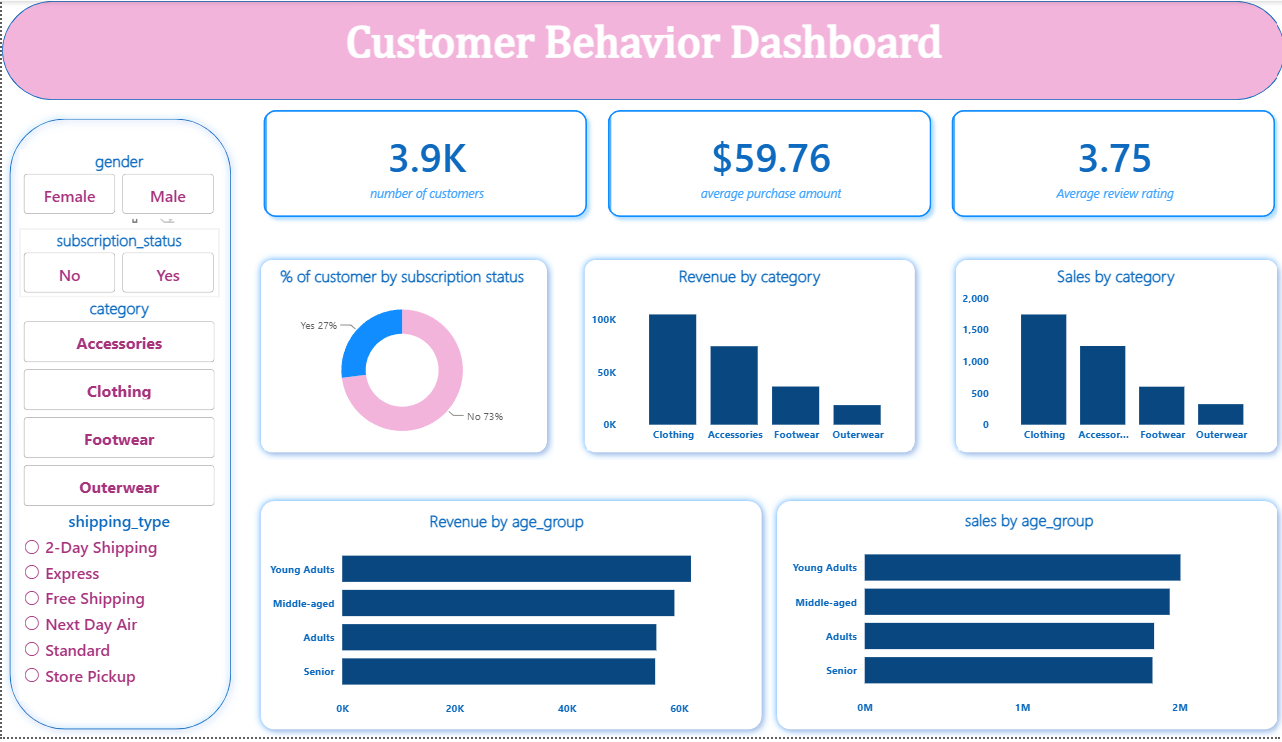

What the dashboard file says about the page in this screenshot:
{"tool":"powerbi","page":{"name":"Page 1","canvas":[1500,860],"ordinal":0},"visuals":[{"type":"cardVisual","fields":{"Data":["public customer.number of customers","public customer.average purchase amount","public customer.Average review rating"]},"box":[294.3,115.8,1206.1,149.6],"z":0},{"type":"shape","box":[0,0,1500.3,115.8],"z":1000},{"type":"textbox","box":[0,14.5,1500.3,101.3],"z":2000},{"type":"shape","box":[294.3,294.3,352.2,242.8],"z":3000},{"type":"donutChart","title":"% of customer by subscription status","fields":{"Category":["public customer.subscription_status"],"Y":["CountNonNull(public customer.customer_id)"]},"box":[307.1,308.7,321.6,217.1],"z":4000},{"type":"shape","box":[672.2,294.3,403.6,242.8],"z":5000},{"type":"shape","box":[1106.4,294.3,394,242.8],"z":6000},{"type":"clusteredColumnChart","title":"Revenue by category","fields":{"Y":["Sum(public customer.purchase_amount)"],"Category":["public customer.category"]},"box":[683.4,308.7,379.5,217.1],"z":7000},{"type":"clusteredColumnChart","title":"Sales by category","fields":{"Y":["CountNonNull(public customer.customer_id)"],"Category":["public customer.category"]},"box":[1117.6,308.7,368.2,217.1],"z":7001},{"type":"shape","box":[0,128.6,276.6,731.7],"z":7002},{"type":"advancedSlicerVisual","fields":{"Values":["public customer.subscription_status"]},"box":[20.9,265.3,233.2,80.4],"z":7003},{"type":"advancedSlicerVisual","fields":{"Values":["public customer.gender"]},"box":[20.9,173.7,233.2,80.4],"z":7004},{"type":"advancedSlicerVisual","fields":{"Values":["public customer.category"]},"box":[20.9,345.7,233.2,249.3],"z":7005},{"type":"listSlicer","fields":{"Values":["public customer.shipping_type"]},"box":[20.9,595,233.2,223.5],"z":7006},{"type":"shape","box":[294.3,575.7,603,284.6],"z":7007},{"type":"clusteredBarChart","title":"Revenue by age_group","fields":{"Category":["public customer.age_group"],"Y":["Sum(public customer.purchase_amount)"]},"box":[307.1,595,566,250.9],"z":7008},{"type":"shape","box":[897.3,575.7,603,284.6],"z":7009},{"type":"clusteredBarChart","title":"sales by age_group","fields":{"Category":["public customer.age_group"],"Y":["Sum(public customer.customer_id)"]},"box":[916.6,593.4,566,250.9],"z":7010}]}

Visuals, with their boxes in screenshot pixels (x1, y1, x2, y2), scaled from the page's 1500x860 canvas onto the 1282x742 screenshot:
cardVisual - public customer.number of customers x public customer.average purchase amount: (252, 100, 1281, 229)
shape: (0, 0, 1281, 100)
textbox: (0, 13, 1281, 100)
shape: (252, 254, 553, 463)
"% of customer by subscription status" donutChart: (262, 266, 537, 454)
shape: (575, 254, 919, 463)
shape: (946, 254, 1281, 463)
"Revenue by category" clusteredColumnChart: (584, 266, 908, 454)
"Sales by category" clusteredColumnChart: (955, 266, 1270, 454)
shape: (0, 111, 236, 741)
advancedSlicerVisual - public customer.subscription_status: (18, 229, 217, 298)
advancedSlicerVisual - public customer.gender: (18, 150, 217, 219)
advancedSlicerVisual - public customer.category: (18, 298, 217, 513)
listSlicer - public customer.shipping_type: (18, 513, 217, 706)
shape: (252, 497, 767, 741)
"Revenue by age_group" clusteredBarChart: (262, 513, 746, 730)
shape: (767, 497, 1281, 741)
"sales by age_group" clusteredBarChart: (783, 512, 1267, 728)
